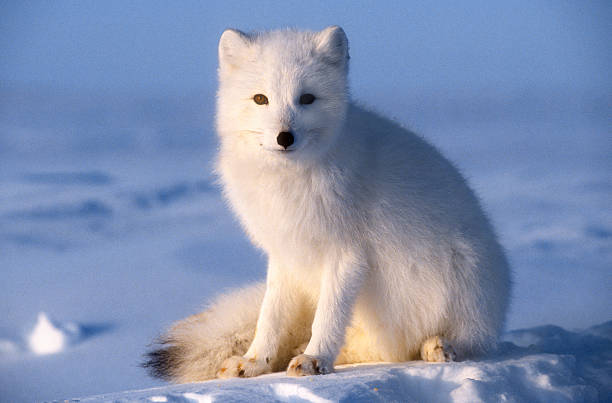arcticfox: (218, 39, 366, 183)
